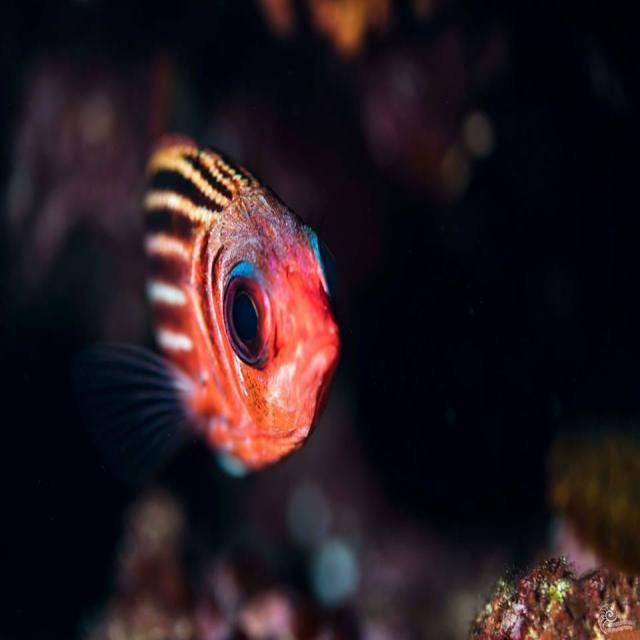Asker Baligi: (92, 81, 352, 480)
